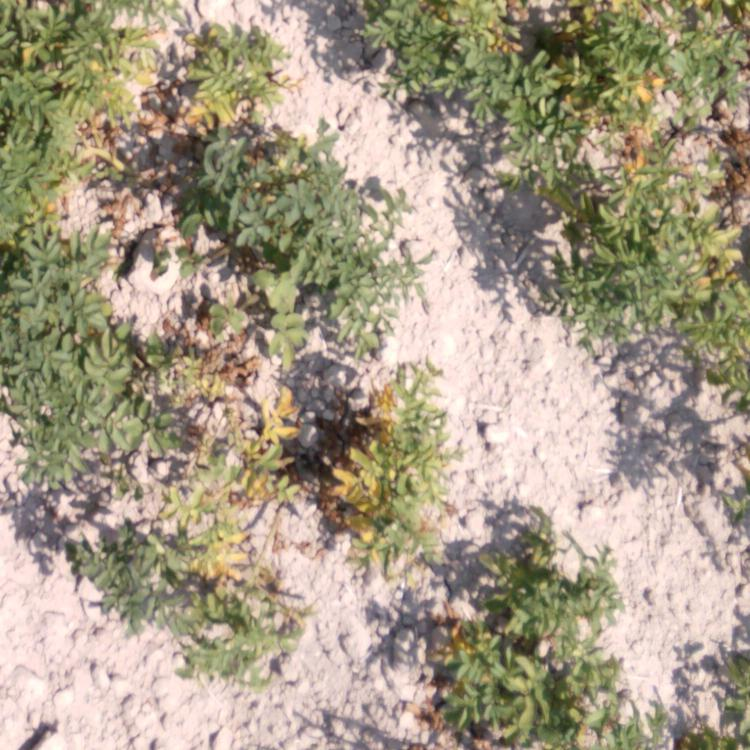healthy: (1, 232, 161, 414), (279, 137, 391, 303), (172, 129, 274, 260), (4, 417, 122, 502), (72, 523, 133, 603), (473, 135, 541, 174)
stressed: (422, 550, 614, 748), (554, 1, 750, 165), (139, 472, 290, 678), (312, 369, 452, 552), (368, 1, 546, 123), (166, 323, 296, 471), (1, 1, 161, 111), (560, 161, 655, 325), (1, 107, 114, 232), (165, 22, 294, 128), (623, 677, 750, 750), (669, 155, 743, 278), (682, 289, 750, 367), (722, 441, 750, 519)
